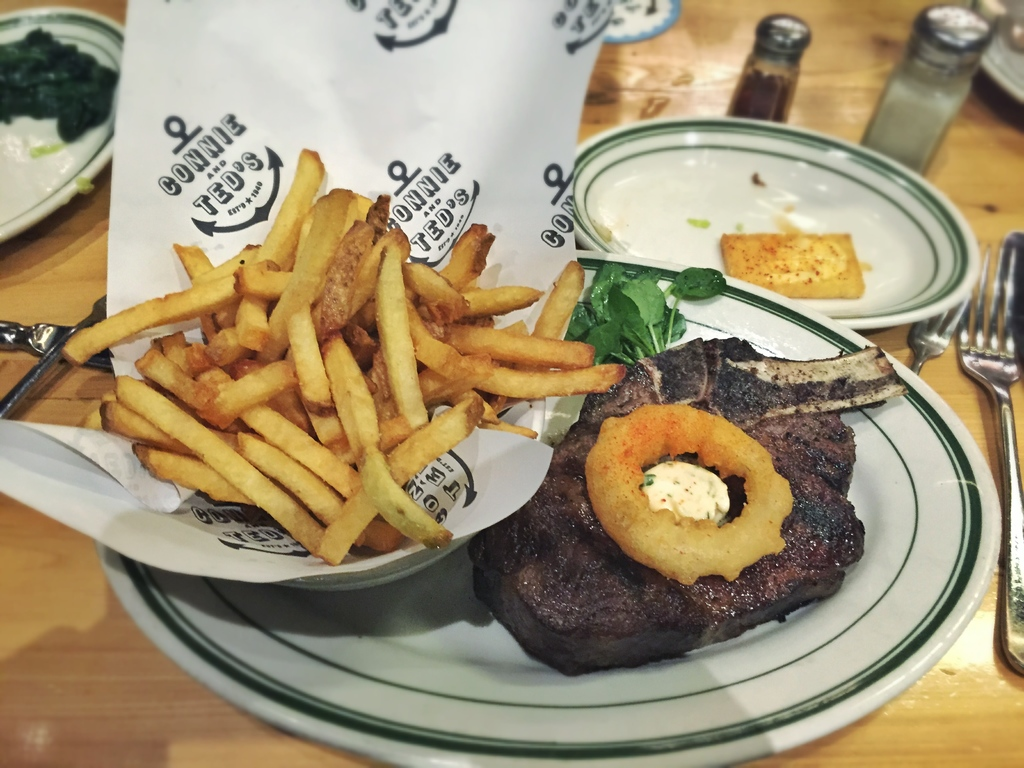French fries: (117, 383, 339, 564), (312, 395, 487, 560), (185, 350, 371, 504), (323, 333, 453, 551), (406, 313, 619, 405), (233, 144, 325, 353), (259, 179, 352, 360), (60, 270, 245, 360), (240, 430, 362, 549), (365, 236, 437, 432), (315, 321, 376, 467), (325, 192, 392, 323), (516, 259, 586, 376), (437, 328, 594, 366), (318, 218, 368, 334), (398, 255, 468, 323), (175, 243, 221, 342), (135, 344, 208, 405), (439, 222, 484, 289), (236, 256, 296, 305), (459, 281, 547, 313), (458, 225, 497, 289), (474, 416, 540, 445), (160, 318, 185, 370), (414, 362, 440, 398)
